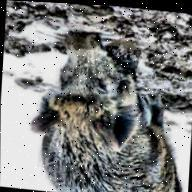boar: (16, 24, 192, 192)
